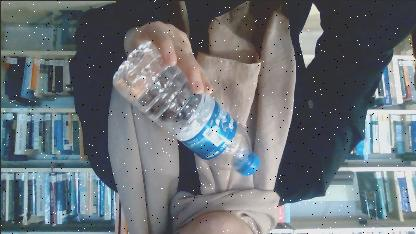Plastic Bottle: (108, 38, 260, 174)
